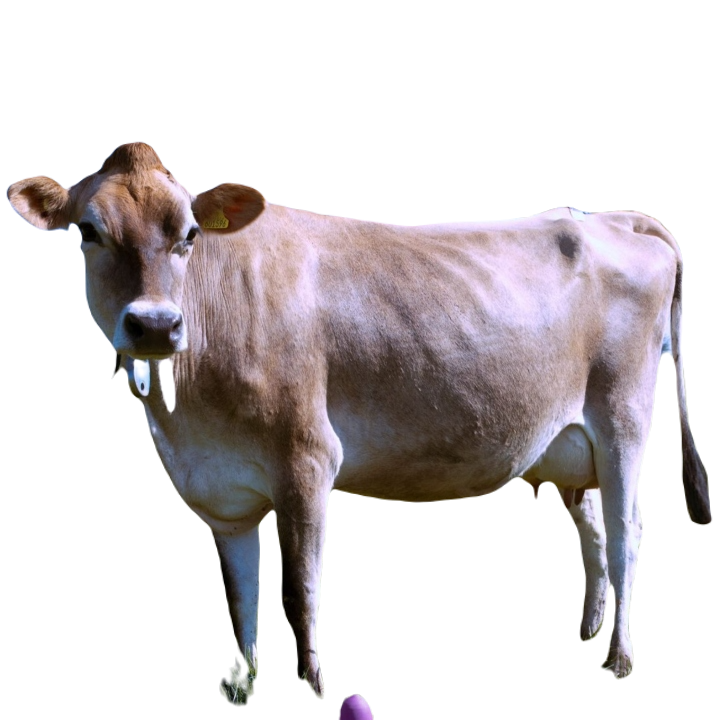Cow: (6, 140, 709, 706)
